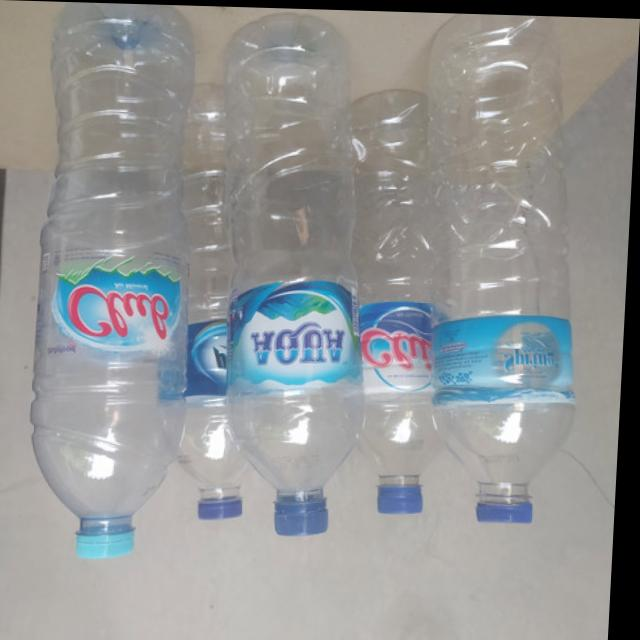bottle: (28, 1, 206, 564), (411, 10, 599, 525), (216, 13, 387, 537), (154, 74, 272, 521), (341, 83, 458, 514)
